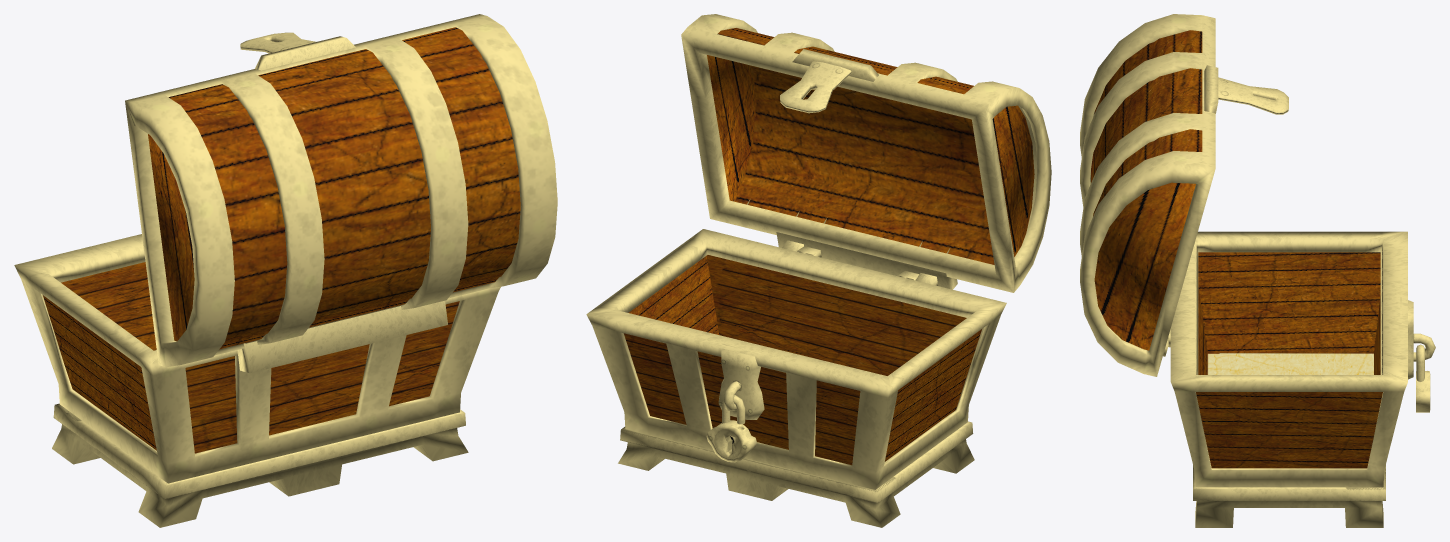
The model's file is treasurebox.fbx.
3 views of the same model, side by side, from view 1: azimuth 30°, elevation 25°; view 2: azimuth 150°, elevation 25°; view 3: azimuth 270°, elevation 25° (orthographic). The views are drawn at different scales.
Parts seen in each view (by area): view 1: box_up1, box_down1; view 2: box_down1, box_up1, lock; view 3: box_down1, box_up1, lock.
Boxes of the visible parts, <box> form: box_up1: <box>125,14,557,373</box>; box_down1: <box>14,234,500,527</box>; box_down1: <box>586,229,1006,527</box>; box_up1: <box>681,14,1051,292</box>; lock: <box>706,420,756,462</box>; box_down1: <box>1168,231,1435,527</box>; box_up1: <box>1080,14,1288,376</box>; lock: <box>1416,371,1430,412</box>.
Size of the model in its own units: 3 by 3.54 by 3.
1 material, 1 textured.
